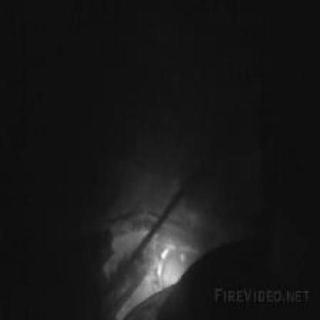other: (104, 207, 194, 293)
